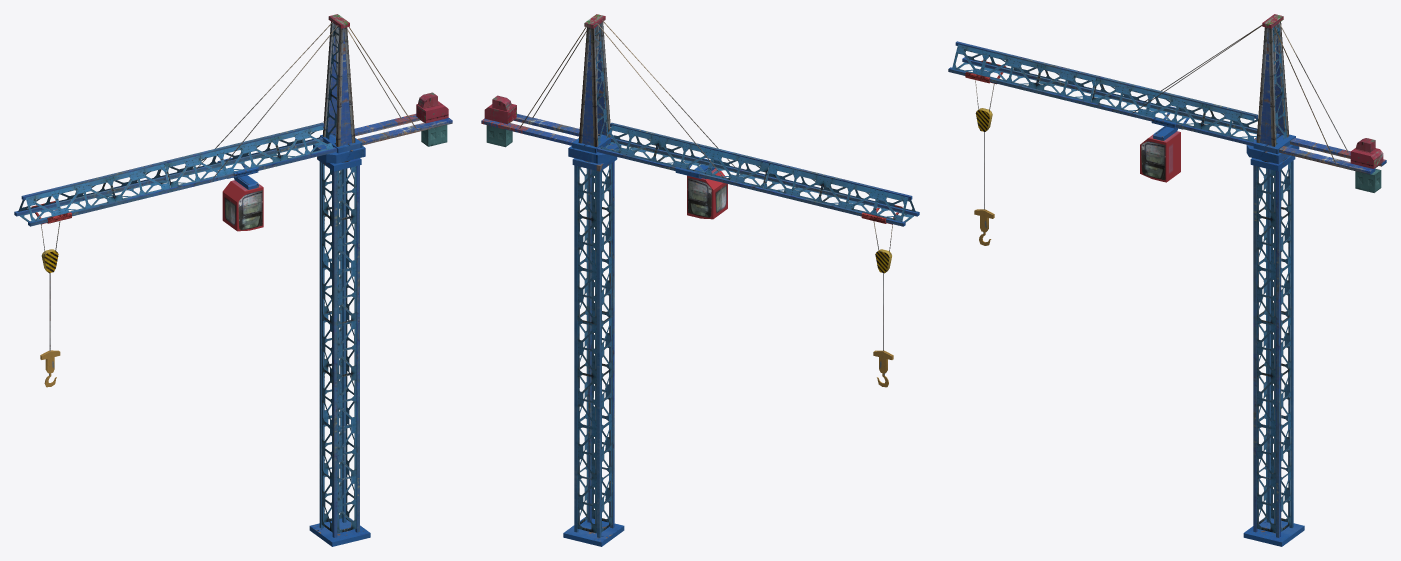
The model's file is Crane02b.FBX.
3 views of the same model, side by side, from view 1: azimuth 30°, elevation 25°; view 2: azimuth 150°, elevation 25°; view 3: azimuth 330°, elevation 25° (orthographic).
Parts seen in each view (by area): view 1: Crane02b; view 2: Crane02b; view 3: Crane02b.
Part boxes in pixels (x1,y1,x2,y2): Crane02b: [14, 14, 452, 546]; Crane02b: [481, 14, 919, 546]; Crane02b: [948, 14, 1386, 546].
Size of the model in its own units: 12721 by 14817 by 1411.
